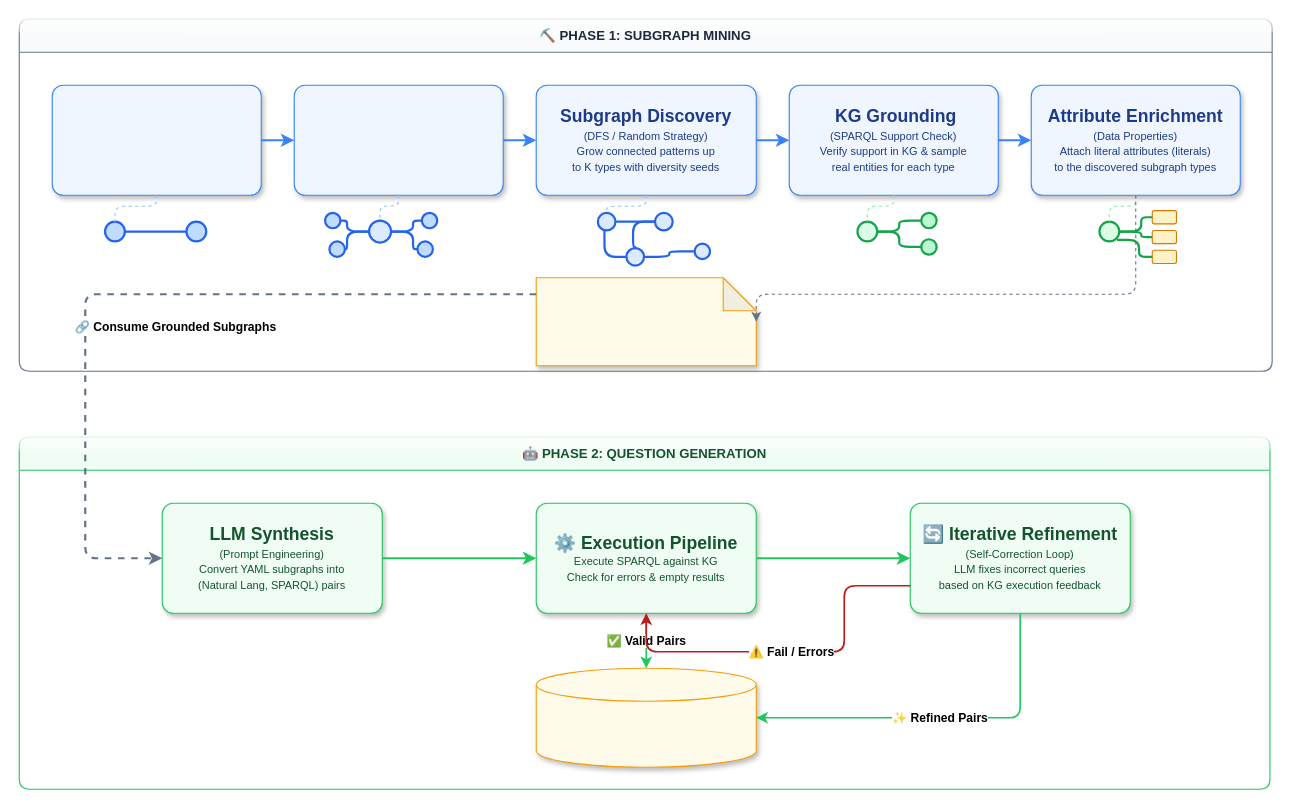
This 1291x809 diagram has some shape labels left out. Each missing label, with the centre of its shape:
"Adjacency Index Map entity types to patterns for O(1) extension lookups" belongs at [399,141].
"Pattern Extraction (ABSTAT) Extract frequent (S, P, O) triplets from the KG" belongs at [157,141].
"Subgraph Patterns (YAML Format with Grounding)" belongs at [647,322].
"💾 QA Dataset Verified Benchmark with ground-truth SPARQL queries" belongs at [647,719].
